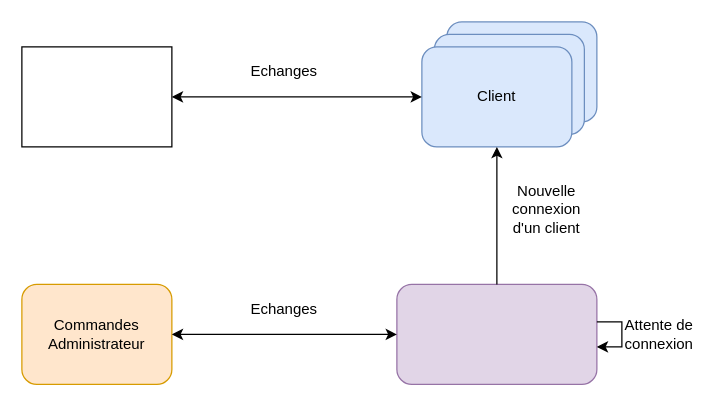
Image size: 719x406. Some labels were removed from this diagram. The shapes that lost their labels are listed below. From the top down, each one's centre as x and y in pixels, then its label:
At [96,96]: "Réseau".
At [496,333]: "Serveur".
